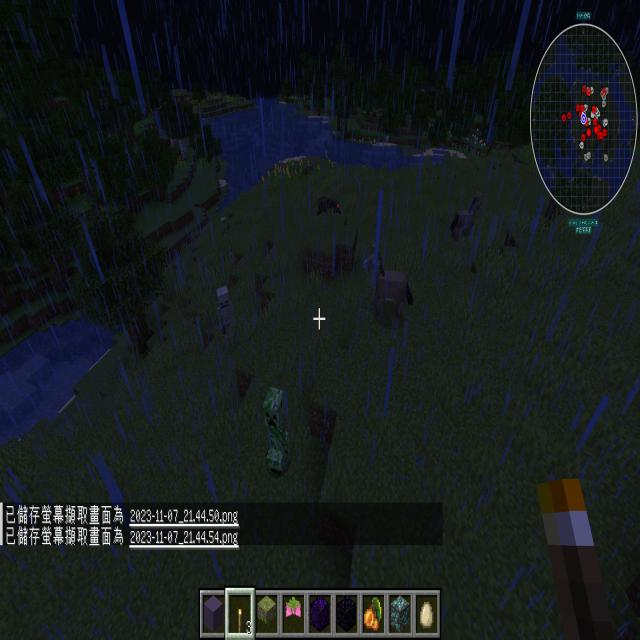Creeper: (261, 379, 297, 482)
Skeleton: (212, 280, 242, 356)
Spider: (313, 189, 344, 225)
